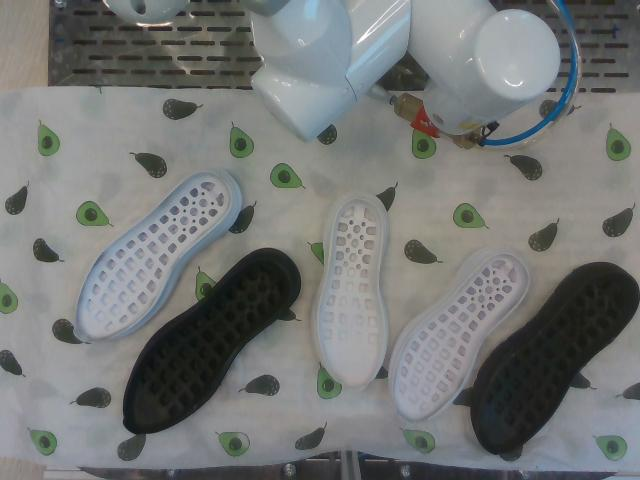shoes: (124, 260, 291, 434), (478, 272, 638, 453), (74, 171, 230, 341), (394, 254, 529, 422), (319, 199, 385, 390)
